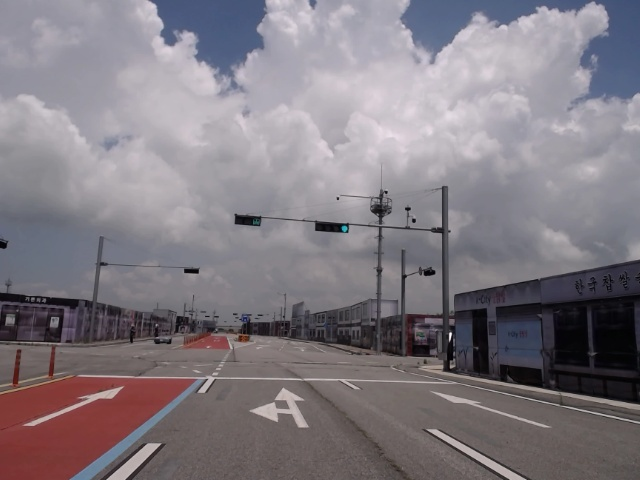straight_green_4: (315, 221, 349, 234)
